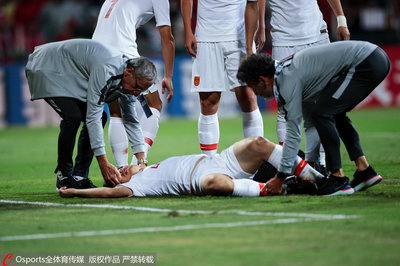fall: (53, 130, 347, 198)
